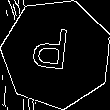P_S: (35, 27, 78, 81)
